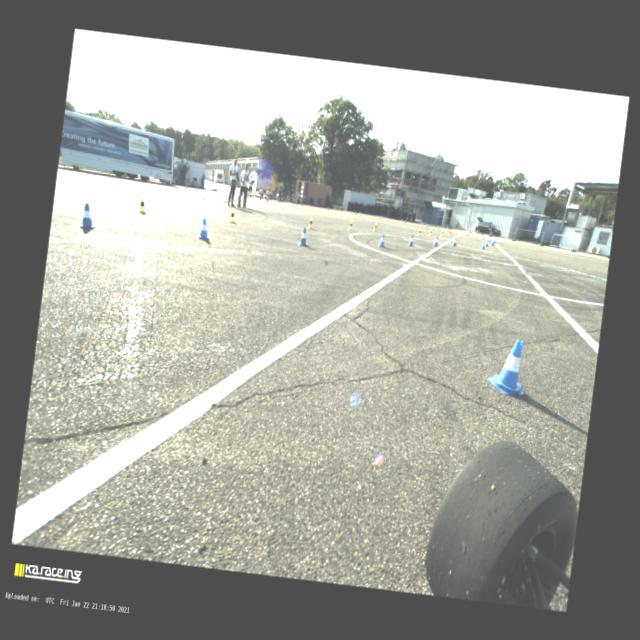blue_cone: (486, 336, 531, 396), (78, 202, 97, 230), (196, 216, 213, 240), (297, 227, 309, 246), (377, 233, 386, 247), (407, 234, 414, 246), (432, 236, 438, 246), (451, 237, 457, 246), (480, 241, 486, 249), (484, 239, 488, 246), (490, 240, 494, 246), (488, 236, 492, 241), (195, 186, 198, 191), (494, 238, 496, 244), (378, 214, 381, 218), (482, 234, 484, 239), (466, 231, 468, 235), (277, 198, 279, 202), (300, 202, 302, 206), (354, 211, 356, 215), (404, 219, 406, 223), (426, 223, 428, 227), (327, 207, 329, 210)
yellow_cone: (138, 196, 148, 212), (227, 208, 237, 222), (307, 216, 314, 228), (348, 220, 353, 230), (372, 223, 377, 231), (439, 228, 444, 236), (427, 228, 432, 235), (417, 228, 421, 236), (184, 184, 188, 190), (217, 190, 220, 196), (107, 172, 110, 178), (448, 230, 451, 235), (358, 211, 361, 216), (332, 207, 335, 212), (246, 194, 249, 199), (435, 226, 438, 230), (420, 222, 422, 227), (308, 203, 310, 208), (284, 200, 286, 205), (148, 179, 150, 184), (446, 229, 448, 233), (400, 218, 402, 222), (380, 215, 382, 219)
